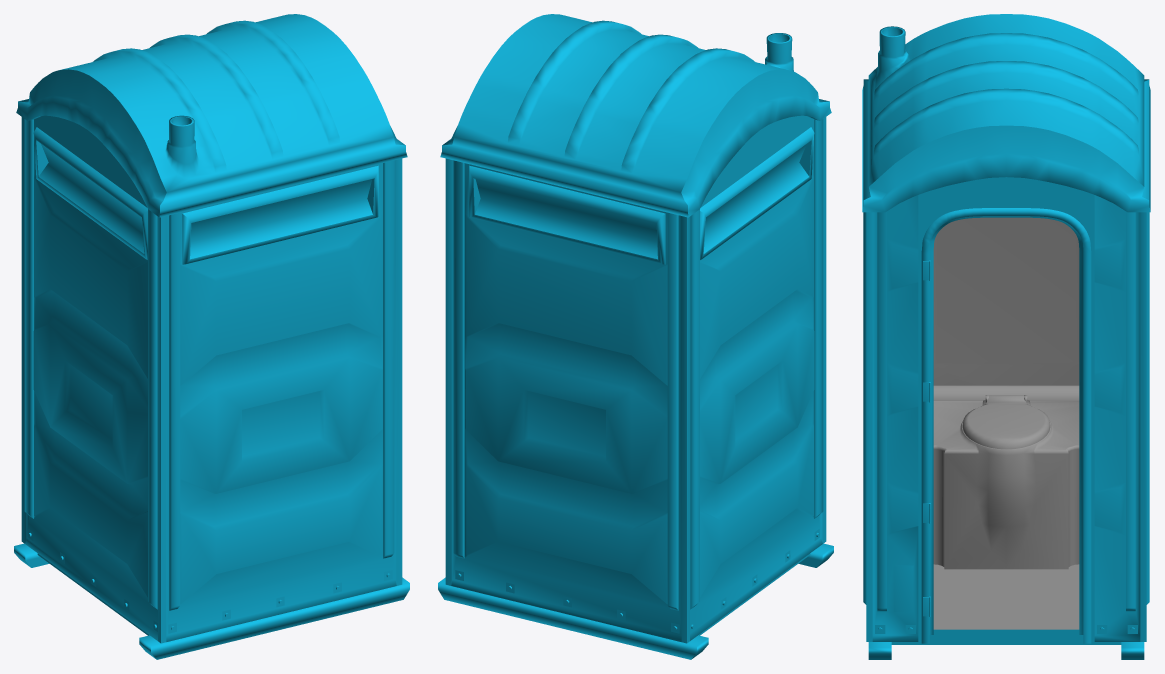
File: SM_Portapotty_02.fbx
3 views of the same model, side by side, from view 1: azimuth 30°, elevation 25°; view 2: azimuth 150°, elevation 25°; view 3: azimuth 270°, elevation 25° (orthographic).
Parts seen in each view (by area): view 1: low_triangulated; view 2: low_triangulated; view 3: low_triangulated.
Boxes of the visible parts, x1,y1,x2,y2 form: low_triangulated: [14, 14, 409, 659]; low_triangulated: [438, 14, 833, 659]; low_triangulated: [862, 14, 1150, 659].
Size of the model in its own units: 120 by 235 by 115.
